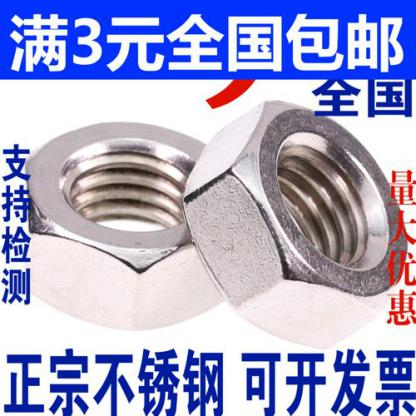FOD: (181, 97, 410, 351), (19, 119, 236, 332)
